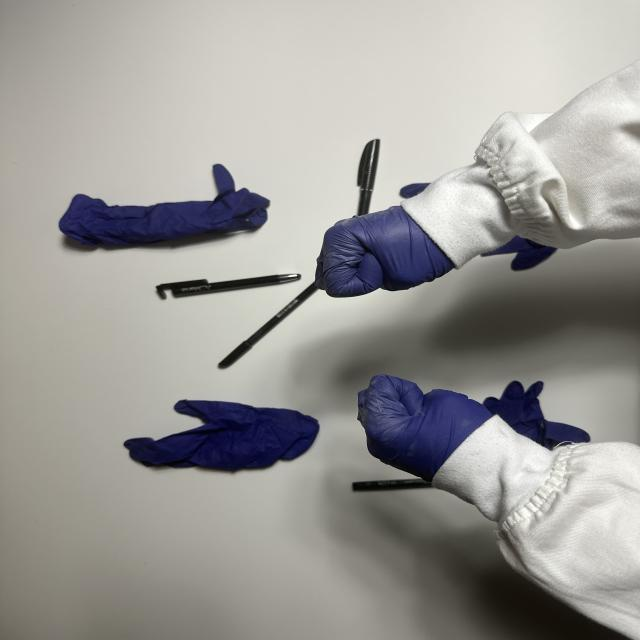gloves_contaminated: (358, 375, 493, 481), (316, 206, 454, 297)
